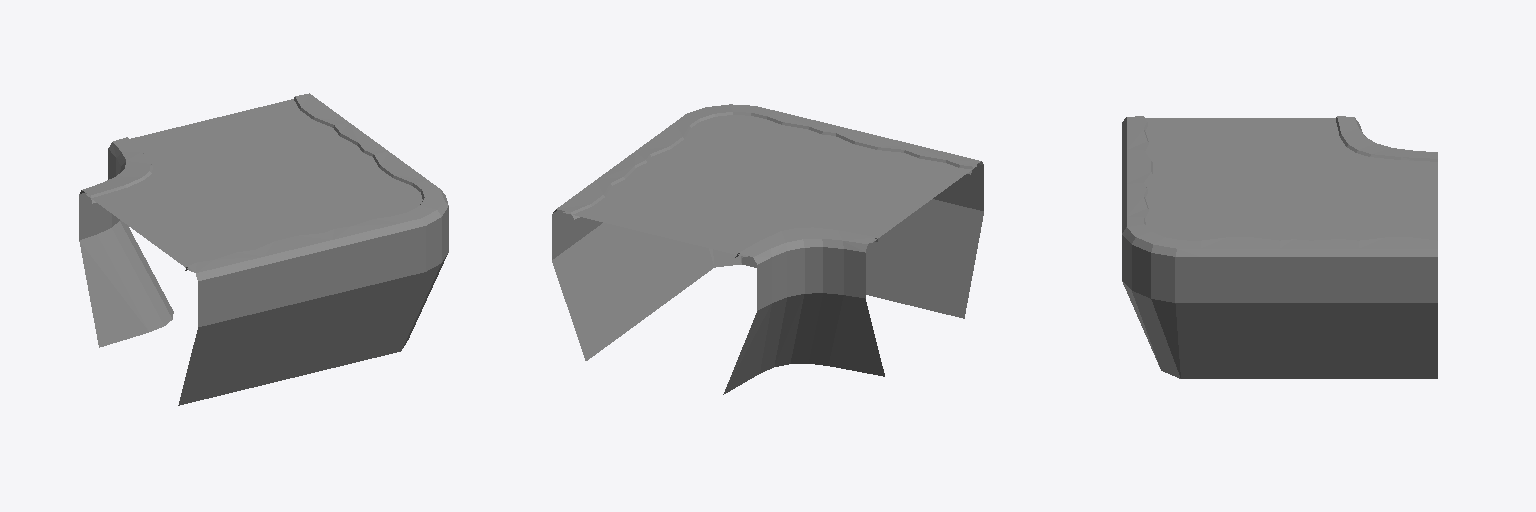
File: module_corner_convex_a.obj
3 renders of one model, left to right at view 1: azimuth 30°, elevation 25°; view 2: azimuth 150°, elevation 25°; view 3: azimuth 270°, elevation 25°, orthographic.
Visible parts, largest first — view 1: module_corner_convex_a; view 2: module_corner_convex_a; view 3: module_corner_convex_a.
Part boxes in pixels (bbox=[...]): module_corner_convex_a: bbox=[79, 93, 448, 405]; module_corner_convex_a: bbox=[552, 104, 983, 394]; module_corner_convex_a: bbox=[1122, 116, 1437, 378].
Size of the model in its own units: 800 by 406 by 800.